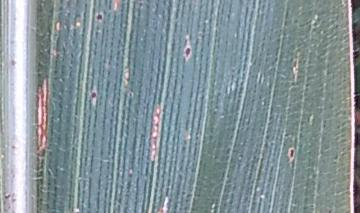tarspot: (181, 33, 194, 63), (289, 54, 302, 84), (91, 8, 107, 26), (287, 143, 298, 165), (88, 86, 100, 106), (2, 190, 12, 202)
